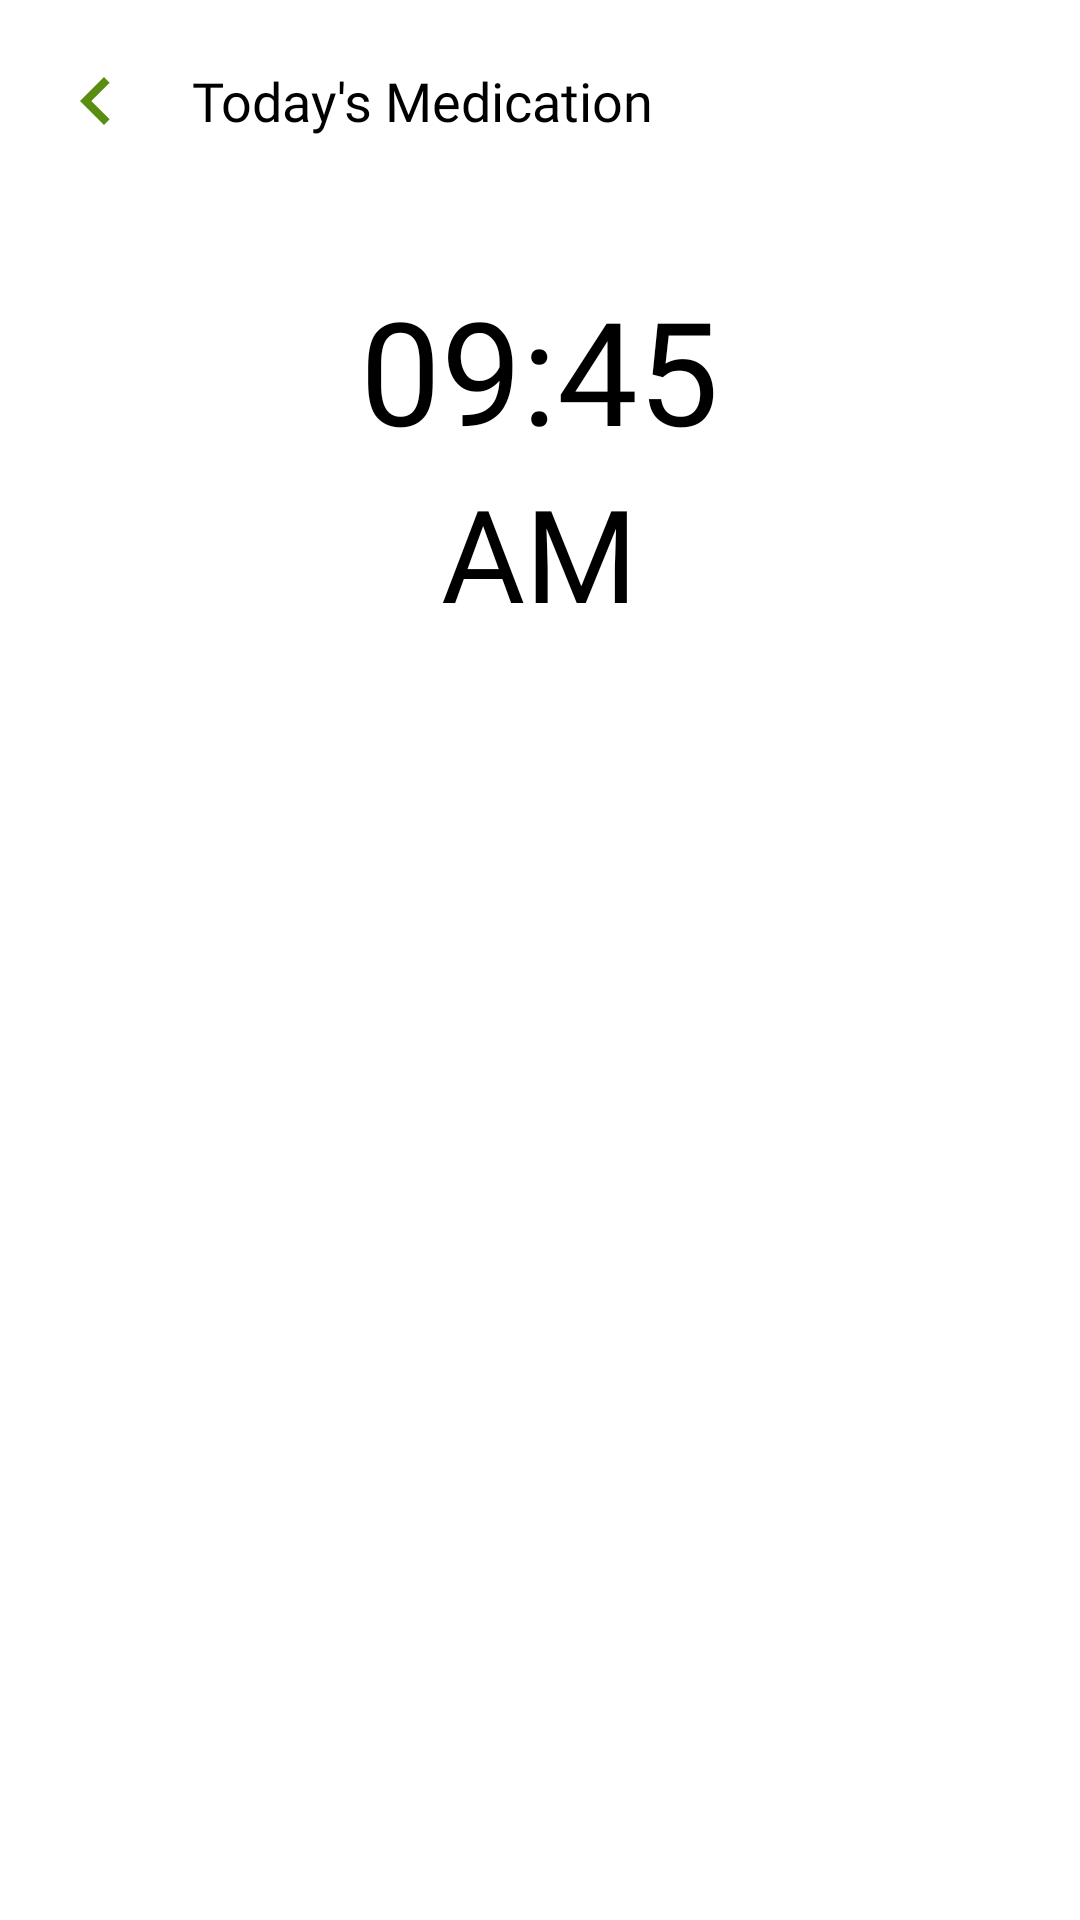

Icons on this 1080 x 1920 Android screen, each with the point to tap as point (x, y):
chevron left: point (95, 101)
